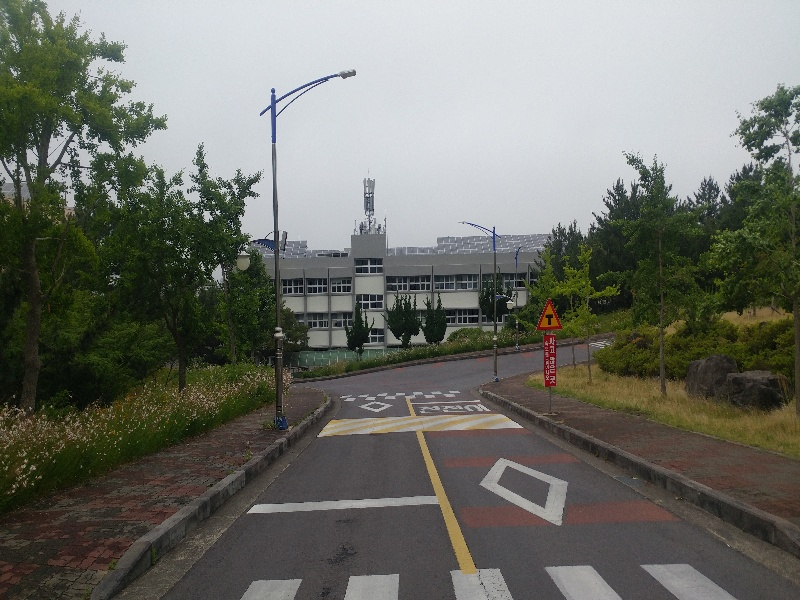Cultural lecture hall: (245, 175, 570, 314), (299, 196, 455, 347), (285, 235, 542, 303)
